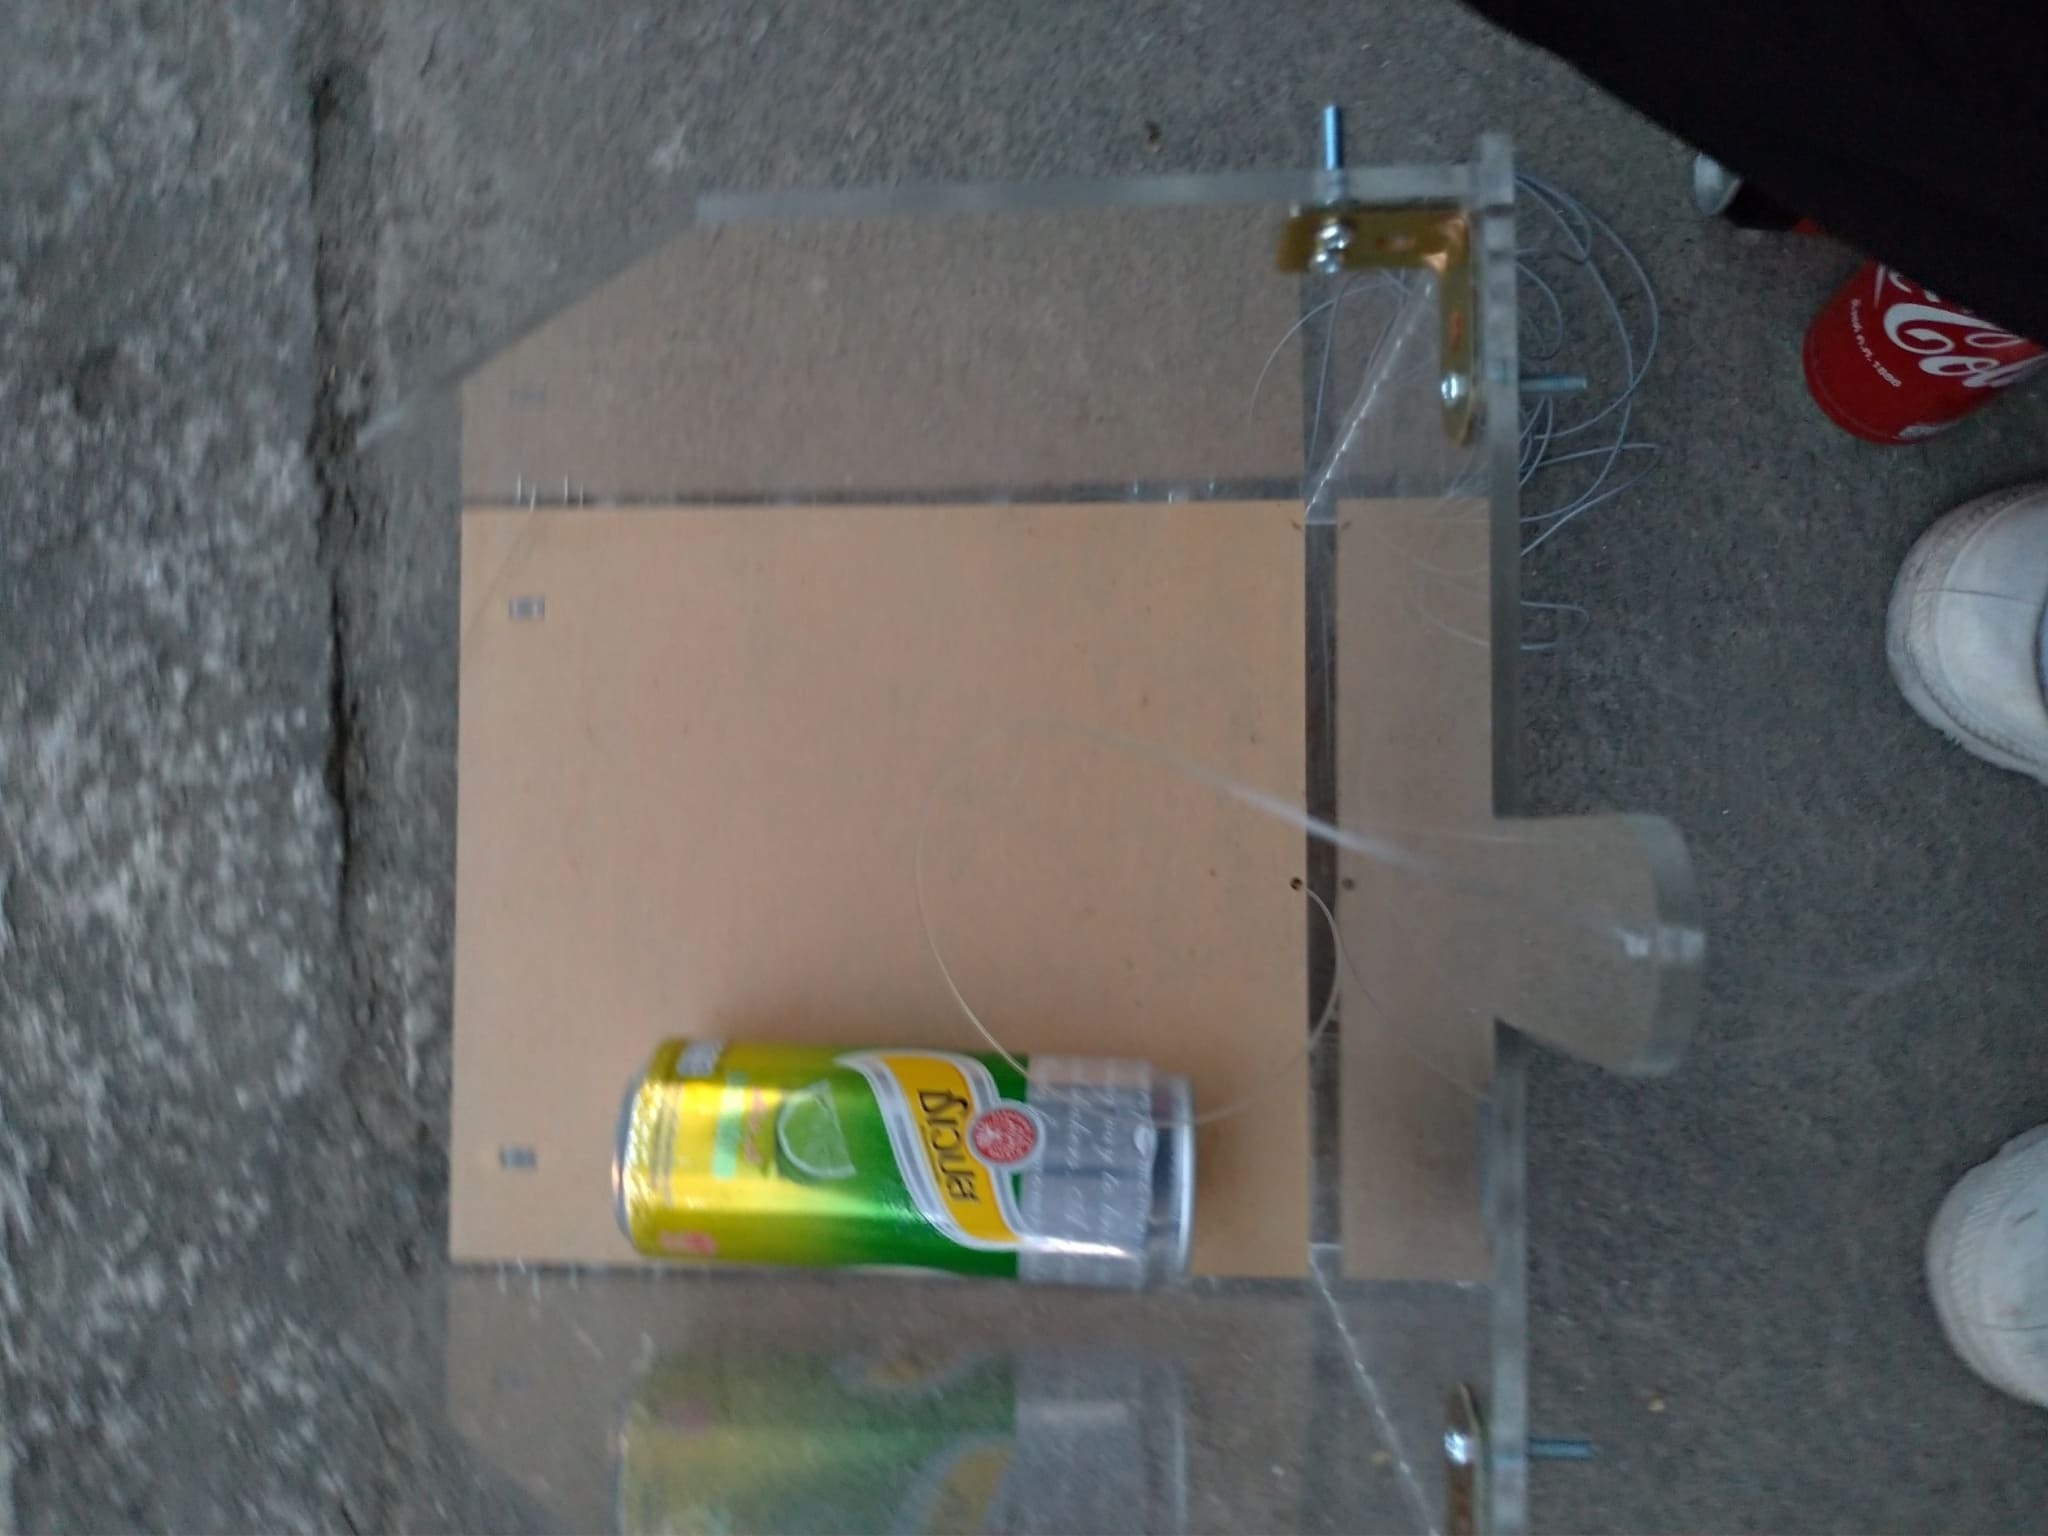AlCan: (608, 1041, 1193, 1300), (1796, 219, 2048, 444)
